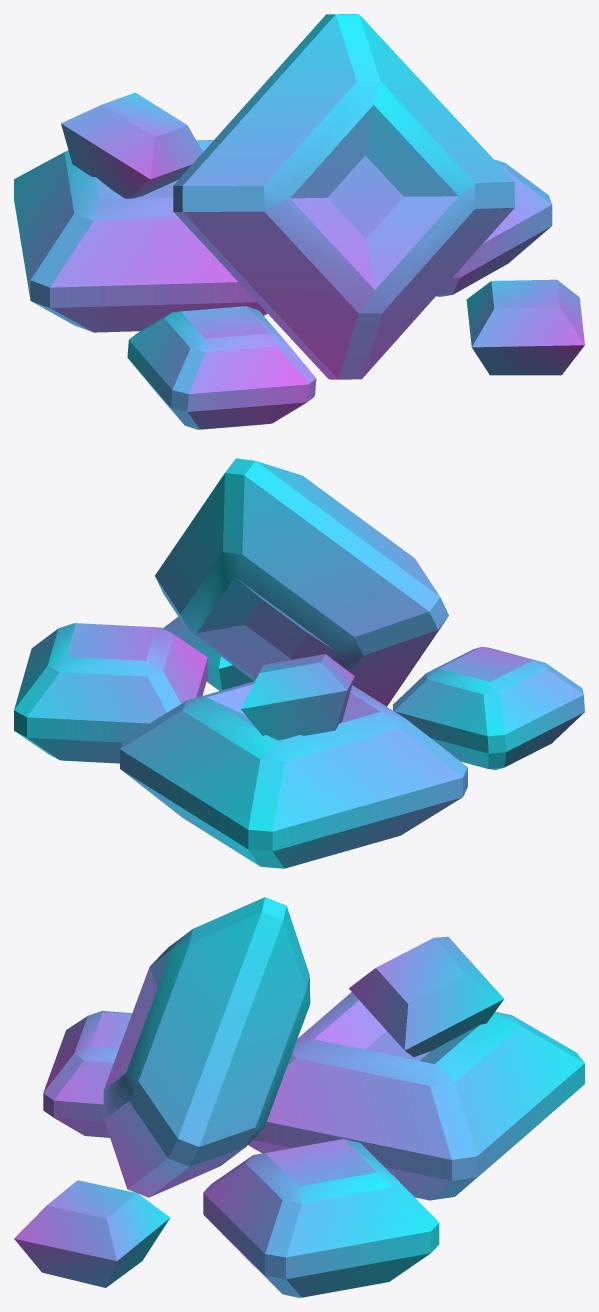
The model's file is prop_gems_pile.glb.
3 views of the same model, one above another, from view 1: azimuth 30°, elevation 25°; view 2: azimuth 150°, elevation 25°; view 3: azimuth 270°, elevation 25° (orthographic). The views are drawn at different scales.
Visible parts, largest first — view 1: Gems_Pile_Small; view 2: Gems_Pile_Small; view 3: Gems_Pile_Small.
Part boxes in pixels (bbox=[...]): Gems_Pile_Small: bbox=[14, 14, 584, 429]; Gems_Pile_Small: bbox=[14, 458, 584, 868]; Gems_Pile_Small: bbox=[14, 897, 584, 1297].
Bounding box in the file's own units: 1.05 × 0.6485 × 1.05.
Materials: 1 (1 with a texture image).
